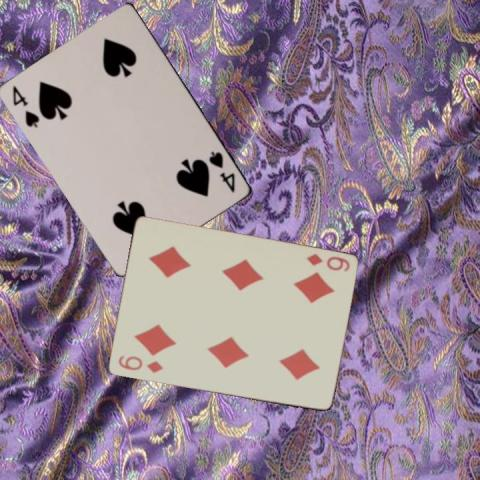4s: (206, 148, 237, 194), (10, 83, 41, 129)
6d: (115, 352, 164, 374), (302, 251, 350, 273)
